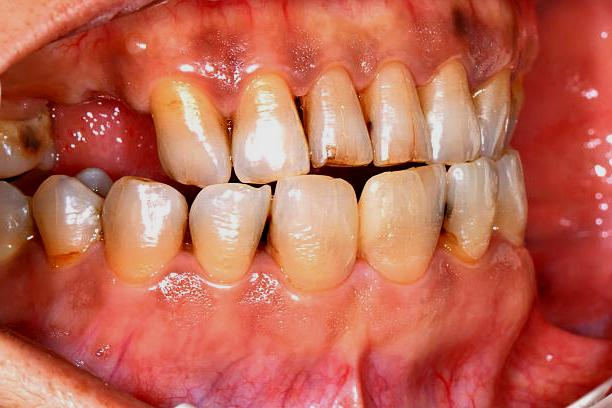Calculus: (143, 80, 233, 199), (263, 184, 355, 290), (97, 183, 189, 287), (359, 170, 446, 278), (290, 73, 376, 180), (363, 72, 431, 184), (433, 161, 500, 261)
Caries: (8, 120, 66, 174), (428, 198, 460, 231)
Discoloration: (31, 167, 109, 262), (418, 61, 479, 162)
Hypodontia: (19, 82, 158, 165)
